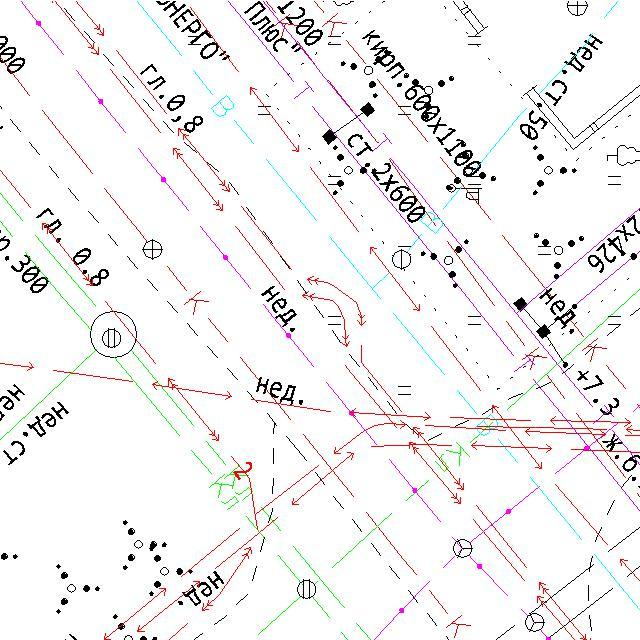bushes: (420, 236, 470, 290), (532, 230, 586, 280), (529, 143, 579, 197), (339, 48, 388, 100), (54, 563, 102, 616), (121, 518, 169, 571), (332, 145, 379, 199), (147, 545, 194, 597)
tree: (605, 142, 640, 168)
well: (88, 309, 139, 360), (295, 576, 319, 602), (140, 237, 165, 261), (100, 326, 123, 350), (451, 537, 475, 560), (390, 248, 413, 271), (523, 611, 546, 634)
